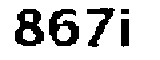6: (48, 7, 81, 48)
7: (83, 4, 117, 48)
8: (12, 7, 46, 49)
i: (117, 5, 137, 53)
